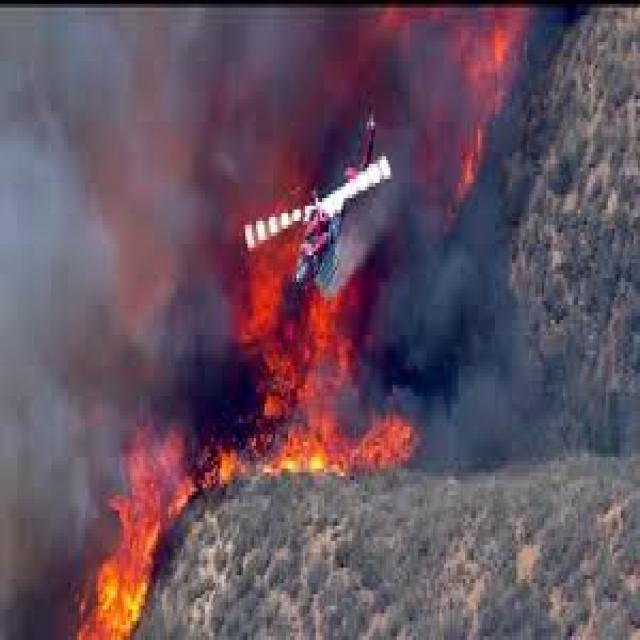Fire: (278, 326, 323, 399), (150, 444, 195, 512), (104, 563, 135, 628), (282, 432, 324, 474), (128, 486, 152, 559), (88, 602, 130, 640), (383, 423, 403, 466), (341, 442, 369, 470)
Smoke: (400, 241, 520, 403), (476, 26, 504, 91)
